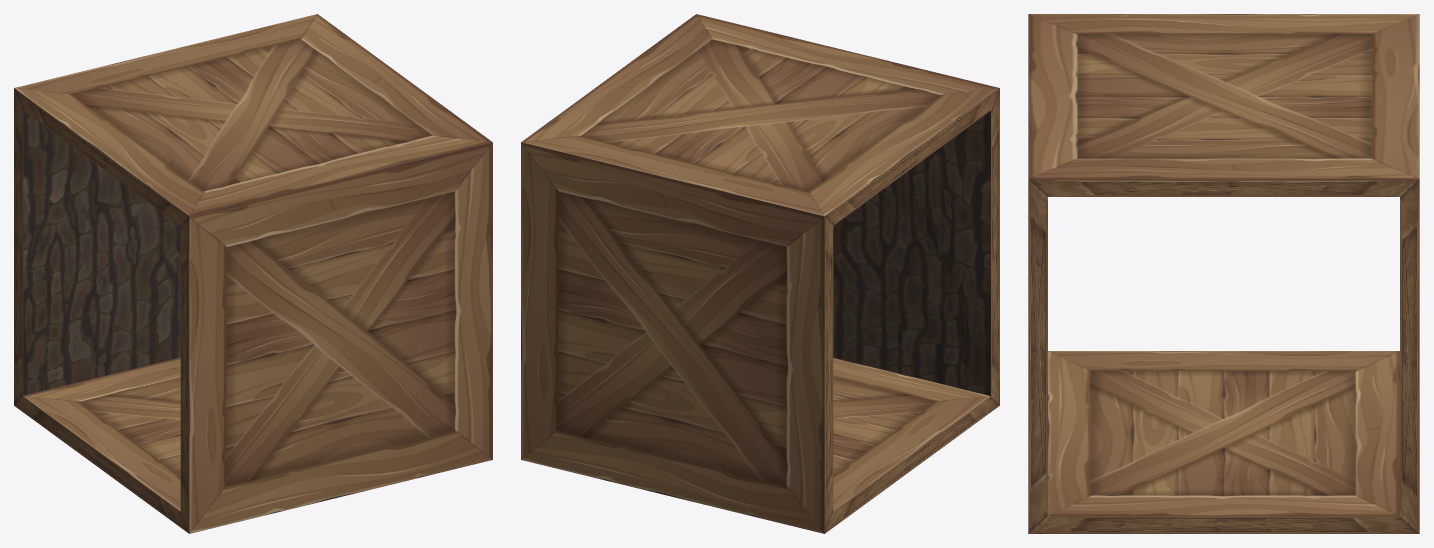
File: halway.glb
3 views of the same model, side by side, from view 1: azimuth 30°, elevation 25°; view 2: azimuth 150°, elevation 25°; view 3: azimuth 270°, elevation 25° (orthographic). The views are drawn at different scales.
Visible parts, largest first — view 1: halway; view 2: halway; view 3: halway.
Part boxes in pixels (box(x1,y1,x2,y2)): halway: box(14, 14, 492, 533); halway: box(521, 14, 999, 533); halway: box(1028, 14, 1419, 533).
Bounding box in the file's own units: 1 × 1 × 1.
Materials: 1 (1 with a texture image).
